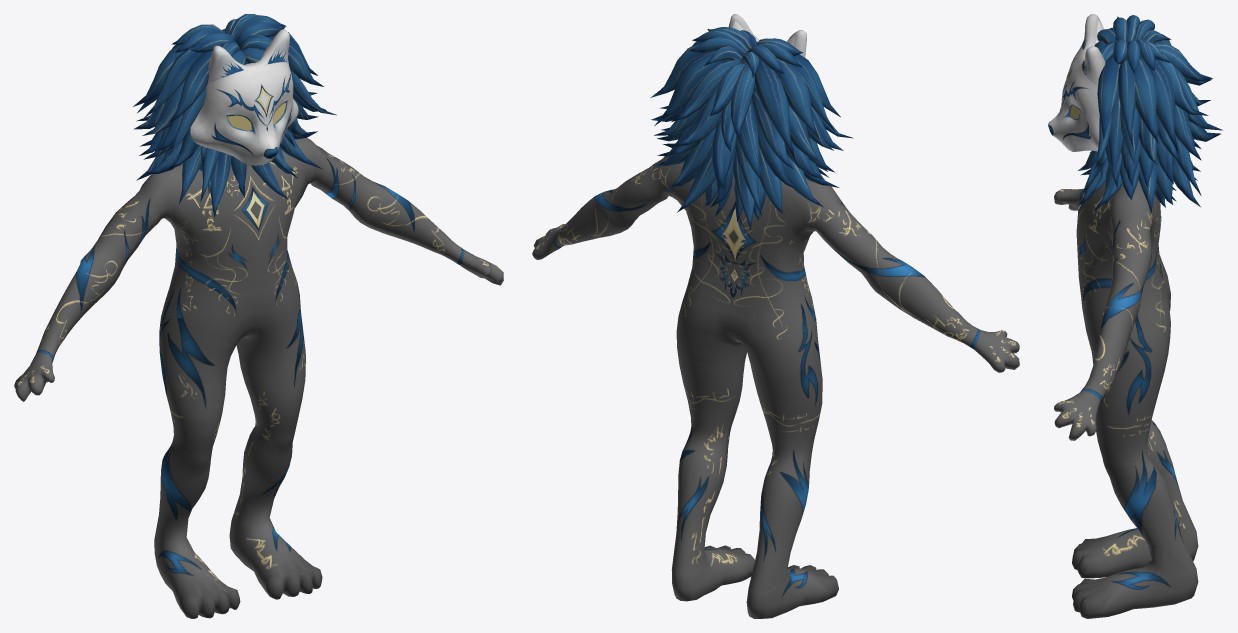
File: F_Fox (1).fbx
The picture shows the model from 3 angles, left to right: view 1: azimuth 30°, elevation 25°; view 2: azimuth 150°, elevation 25°; view 3: azimuth 270°, elevation 25°; orthographic projection.
Visible parts, largest first — view 1: F_Fox, F_FoxMask; view 2: F_Fox; view 3: F_Fox, F_FoxMask.
Part boxes in pixels (x1=…): F_Fox: x1=14, y1=14, x2=503, y2=618; F_FoxMask: x1=190, y1=29, x2=298, y2=165; F_Fox: x1=532, y1=27, x2=1019, y2=618; F_Fox: x1=1054, y1=15, x2=1222, y2=618; F_FoxMask: x1=1048, y1=14, x2=1105, y2=151.
Bounding box in the file's own units: 174 × 194 × 55.11.
2 materials, 2 textured.
